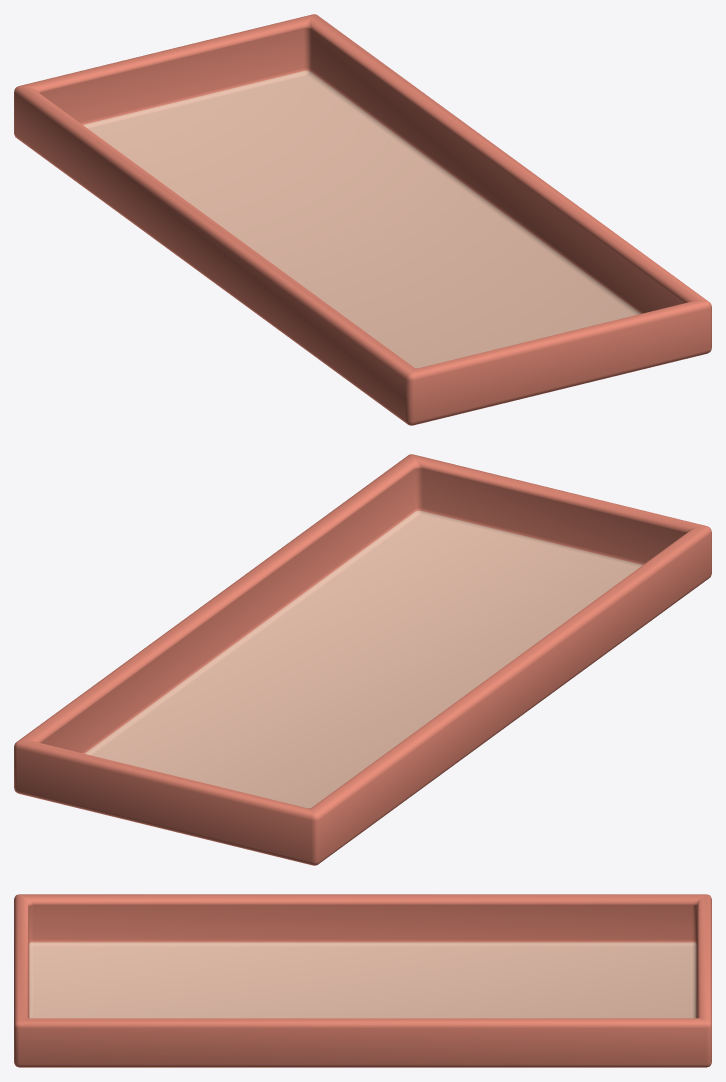
Rendered from Table.fbx.
3 renders of one model, top to bottom at view 1: azimuth 30°, elevation 25°; view 2: azimuth 150°, elevation 25°; view 3: azimuth 270°, elevation 25°, orthographic. The views are drawn at different scales.
Visible parts, largest first — view 1: Table; view 2: Table; view 3: Table.
Boxes of the visible parts, x1,y1,x2,y2 form: Table: [14, 14, 711, 425]; Table: [14, 454, 711, 865]; Table: [14, 894, 711, 1067].
Bounding box in the file's own units: 621 × 102 × 1400.
